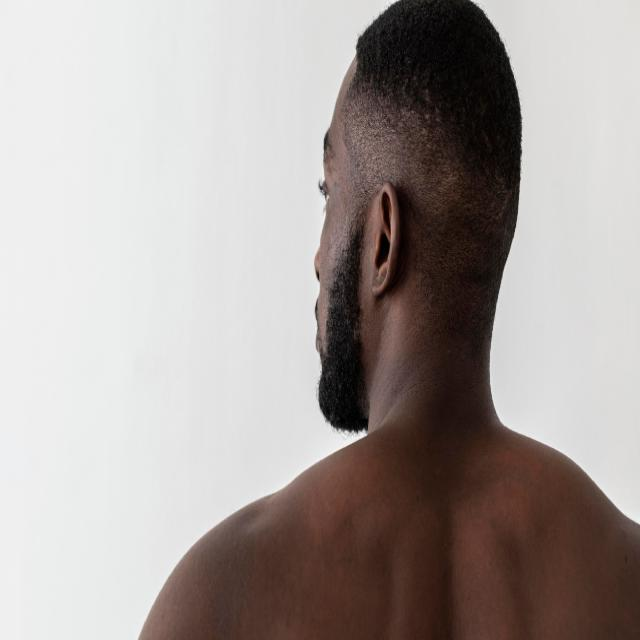sem_oculos: (312, 154, 408, 221)
